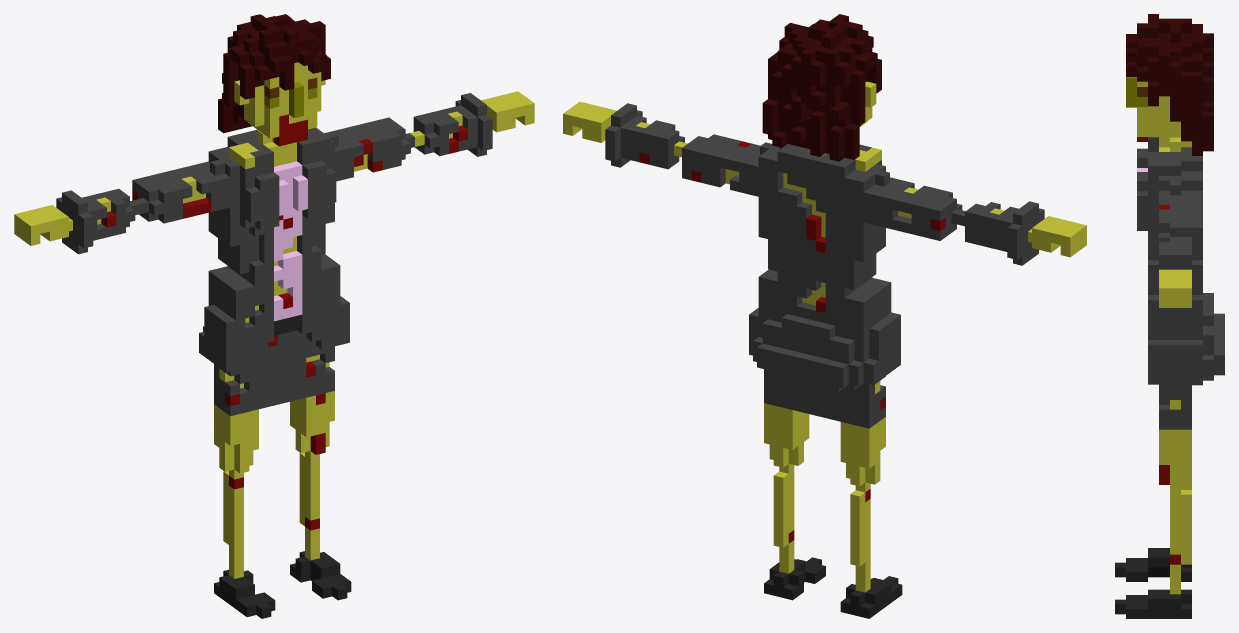
Rendered from zombie_city2.obj.
3 views of the same model, side by side, from view 1: azimuth 30°, elevation 25°; view 2: azimuth 150°, elevation 25°; view 3: azimuth 270°, elevation 25° (orthographic).
Bounding box in the file's own units: 5.3 × 5.7 × 1.
Materials: 1 (1 with a texture image).
